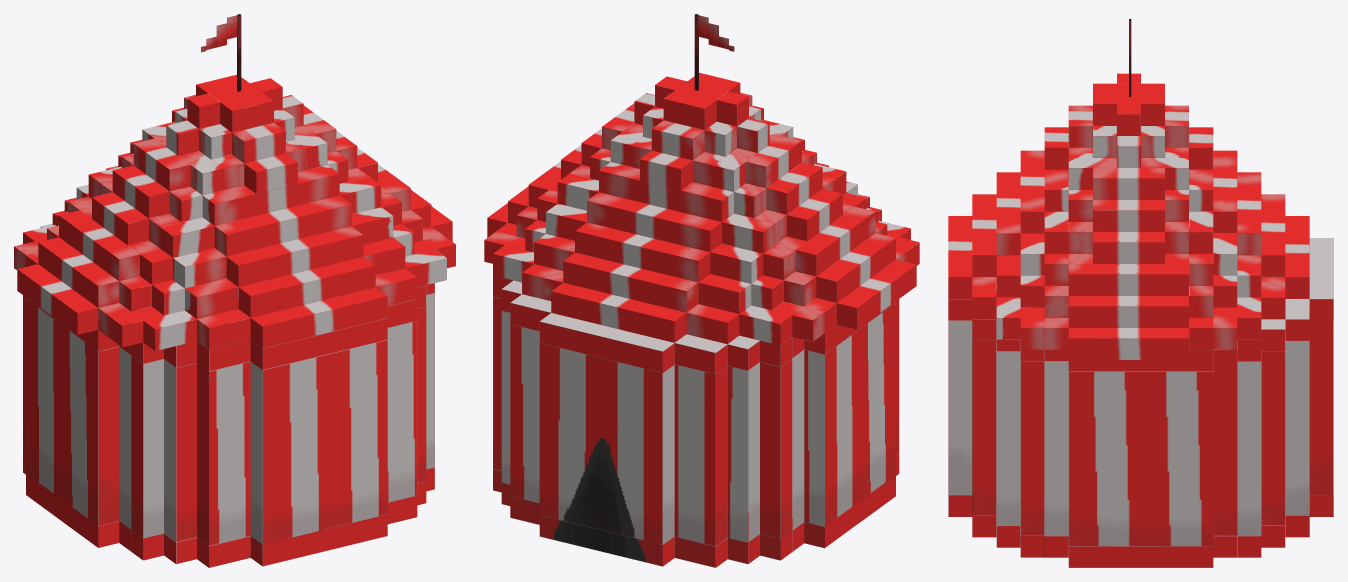
File: tent thing.fbx
3 renders of one model, left to right at view 1: azimuth 30°, elevation 25°; view 2: azimuth 150°, elevation 25°; view 3: azimuth 270°, elevation 25°, orthographic.
Visible parts, largest first — view 1: cube_58, cube_40, cube_43, cube_50, cube_46, cube_44, cube_78, cube_114, cube_126, cube_98, cube_134, cube_1 (+47 smaller); view 2: cube_41, cube_40, cube_42, cube_45, cube_49, cube_57, cube_61, cube_21, cube_101, cube_81, cube_117, cube_129 (+48 smaller); view 3: cube_59, cube_41, cube_58, cube_44, cube_47, cube_48, cube_51, cube_52, cube_55, cube_56, cube_57, cube_79 (+68 smaller).
Boxes of the visible parts, x1,y1,x2,y2 form: cube_58: (250, 340, 387, 544); cube_40: (26, 299, 119, 525); cube_43: (197, 361, 250, 545); cube_50: (131, 356, 163, 538); cube_46: (164, 359, 196, 542); cube_44: (387, 321, 417, 502); cube_78: (250, 287, 387, 348); cube_114: (226, 226, 363, 287); cube_126: (214, 195, 351, 256); cube_98: (238, 257, 375, 317); cube_134: (202, 165, 339, 225); cube_1: (250, 514, 387, 566); cube_41: (539, 343, 674, 544); cube_40: (804, 303, 895, 526); cube_42: (674, 364, 727, 546); cube_45: (727, 362, 759, 542); cube_49: (760, 359, 792, 538); cube_57: (510, 324, 539, 503); cube_61: (551, 282, 686, 342); cube_21: (539, 313, 674, 372); cube_101: (575, 222, 710, 282); cube_81: (563, 252, 698, 312); cube_117: (587, 192, 721, 252); cube_129: (599, 162, 733, 221); cube_59: (1068, 371, 1213, 546); cube_41: (1309, 320, 1333, 495); cube_58: (948, 320, 972, 495); cube_44: (972, 341, 996, 515); cube_47: (1261, 351, 1285, 525); cube_48: (996, 351, 1020, 525); cube_51: (1237, 361, 1261, 535); cube_52: (1020, 361, 1044, 535); cube_55: (1213, 361, 1237, 535); cube_56: (1044, 361, 1068, 535); cube_57: (1285, 341, 1309, 515); cube_79: (1068, 328, 1188, 359).
Bounding box in the file's own units: 112 × 134 × 100.
Materials: 3 (3 with a texture image).
